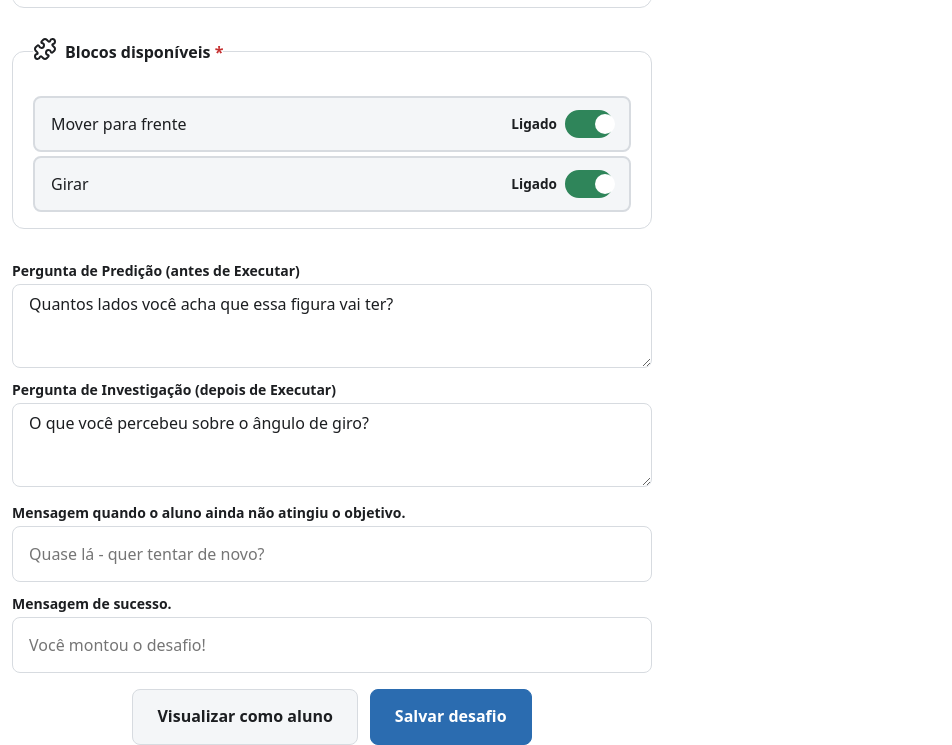
Test: TemplateChallengeForm › blocks saving and shows a non-technical message when no title was given
The width and height of the screenshot is (952, 745).
(page scrolled)
Click the button "Salvar desafio" at (451, 717), box [370, 689, 532, 744]
(page scrolled)
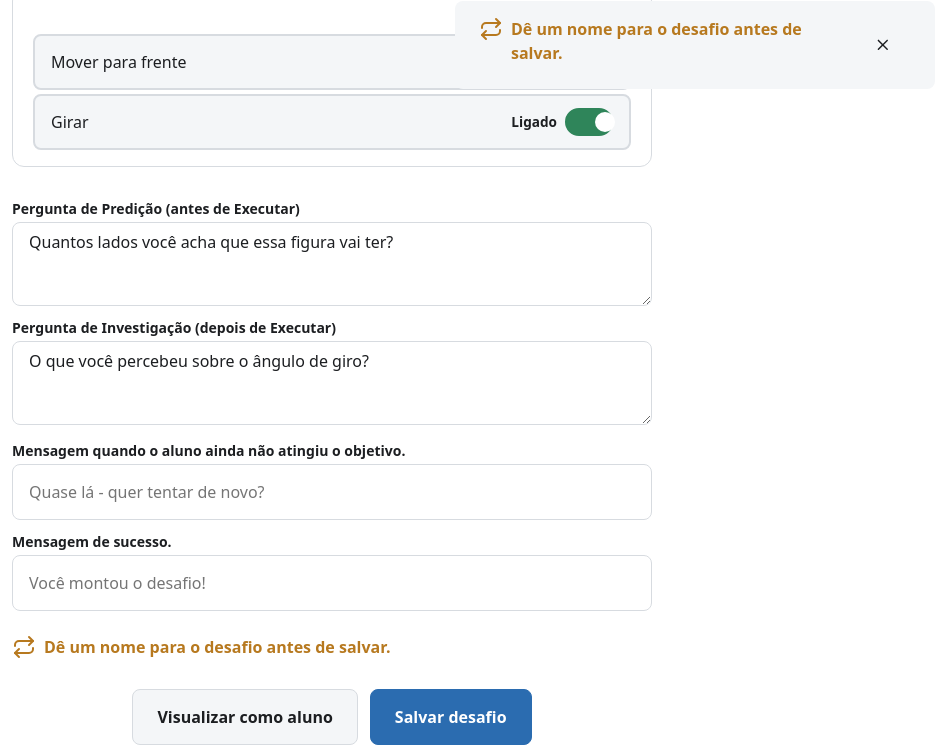
Expected: the 2nd text "Dê um nome para o desafio antes de salvar." is shown, [44, 635, 390, 659]
